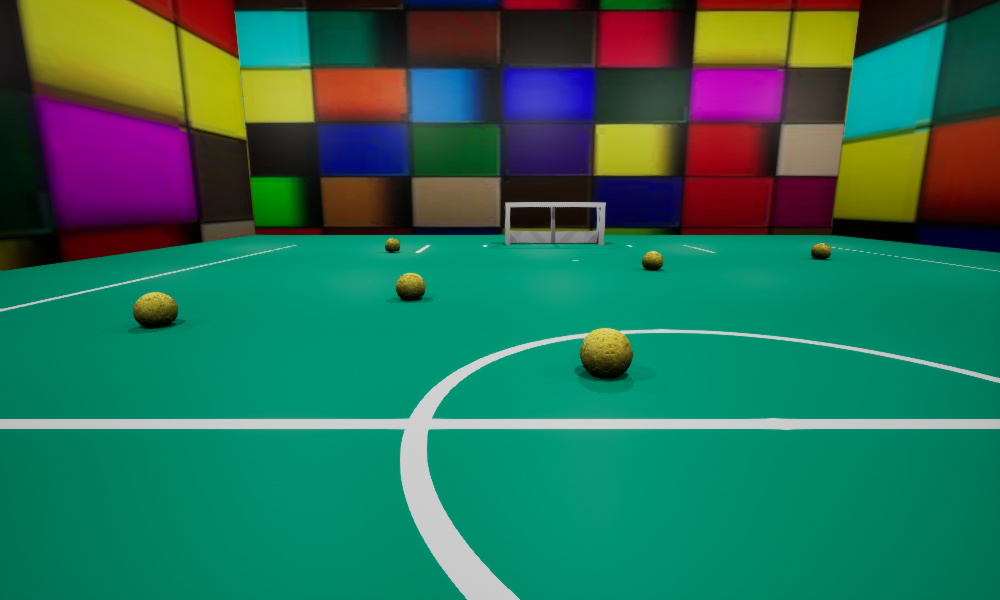b: (580, 328, 632, 376), (133, 292, 177, 327), (396, 273, 425, 299), (642, 251, 662, 269), (811, 243, 830, 258), (385, 238, 399, 251)
g: (505, 202, 605, 244)
